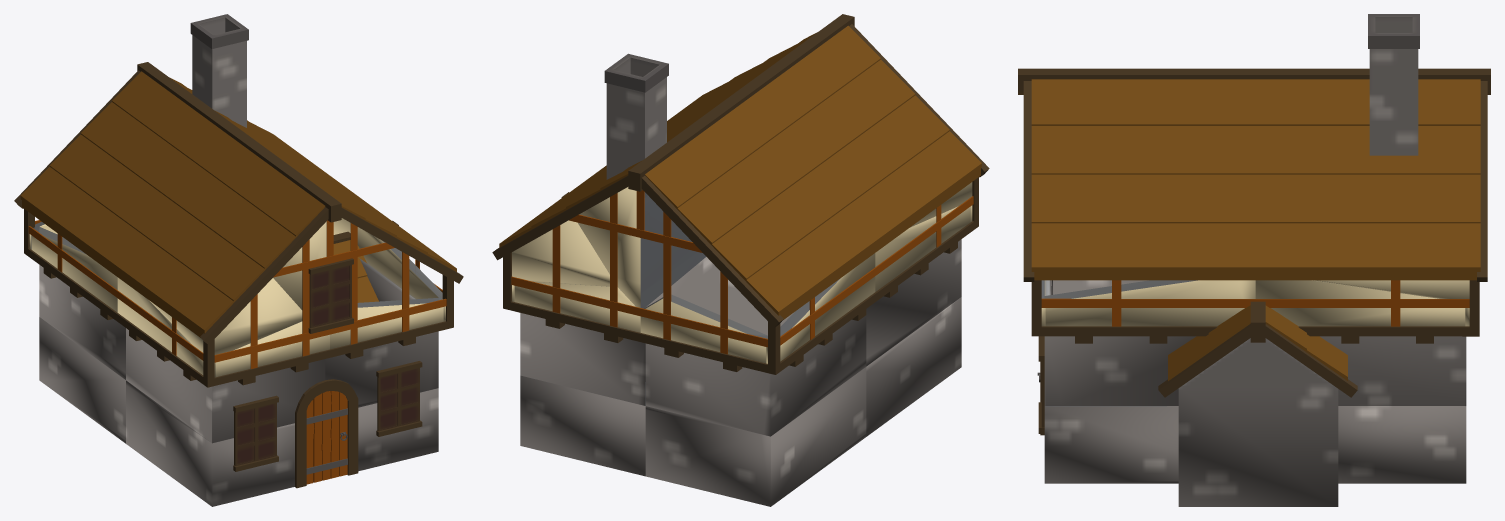
File: ExplodedHouseCastle#3.fbx
The picture shows the model from 3 angles, left to right: view 1: azimuth 30°, elevation 25°; view 2: azimuth 150°, elevation 25°; view 3: azimuth 270°, elevation 25°; orthographic projection. The views are drawn at different scales.
Visible parts, largest first — view 1: HouseCastle#3_cell.001, HouseCastle#3.079, HouseCastle#3.078, HouseCastle#3.077, HouseCastle#3.076, HouseCastle#3_cell, HouseCastle#3_cell.005, HouseCastle#3_cell.003, HouseCastle#3_cell.002, HouseCastle#3.080, HouseCastle#3.020, HouseCastle#3_cell.004 (+26 smaller); view 2: HouseCastle#3_cell.003, HouseCastle#3_cell.002, HouseCastle#3.079, HouseCastle#3.078, HouseCastle#3.077, HouseCastle#3.076, HouseCastle#3_cell.007, HouseCastle#3_cell.006, HouseCastle#3_cell.001, HouseCastle#3_cell, HouseCastle#3_cell.018, HouseCastle#3.080 (+19 smaller); view 3: HouseCastle#3.075, HouseCastle#3.059, HouseCastle#3.074, HouseCastle#3.073, HouseCastle#3.072, HouseCastle#3_cell.005, HouseCastle#3_cell.007, HouseCastle#3_cell.004, HouseCastle#3_cell.006, HouseCastle#3.080, HouseCastle#3.067, HouseCastle#3.020 (+12 smaller).
Boxes of the visible parts, x1,y1,x2,y2 form: HouseCastle#3_cell.001: (117,277,329,443); HouseCastle#3.079: (20,166,233,337); HouseCastle#3.078: (49,134,264,302); HouseCastle#3.077: (80,102,295,269); HouseCastle#3.076: (112,71,325,237); HouseCastle#3_cell: (126,380,294,506); HouseCastle#3_cell.005: (325,227,443,407); HouseCastle#3_cell.003: (31,222,125,379); HouseCastle#3_cell.002: (39,317,125,443); HouseCastle#3.080: (190,14,248,127); HouseCastle#3.020: (24,209,453,387); HouseCastle#3_cell.004: (358,388,438,471); HouseCastle#3_cell.003: (640,253,875,436); HouseCastle#3_cell.002: (645,367,866,506); HouseCastle#3.079: (746,131,981,319); HouseCastle#3.078: (712,95,949,281); HouseCastle#3.077: (677,60,915,245); HouseCastle#3.076: (645,25,880,209); HouseCastle#3_cell.007: (514,282,645,405); HouseCastle#3_cell.006: (520,375,645,476); HouseCastle#3_cell.001: (866,206,970,366); HouseCastle#3_cell: (866,297,961,436); HouseCastle#3_cell.018: (578,187,706,308); HouseCastle#3.080: (604,53,668,179); HouseCastle#3.075: (1031,223,1480,280); HouseCastle#3.059: (1178,338,1338,506); HouseCastle#3.074: (1031,174,1480,223); HouseCastle#3.073: (1031,126,1480,174); HouseCastle#3.072: (1031,79,1480,125); HouseCastle#3_cell.005: (1041,280,1255,405); HouseCastle#3_cell.007: (1255,280,1466,405); HouseCastle#3_cell.004: (1044,406,1178,483); HouseCastle#3_cell.006: (1338,406,1466,483); HouseCastle#3.080: (1368,14,1419,155); HouseCastle#3.067: (1018,68,1490,94); HouseCastle#3.020: (1031,280,1479,336).
Size of the model in its own units: 1682 by 1896 by 1962.
